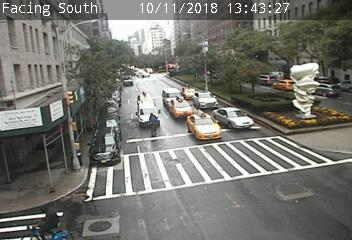car: (89, 127, 121, 165), (187, 113, 221, 142), (213, 107, 254, 130), (138, 101, 160, 128), (169, 98, 193, 118), (192, 91, 218, 109), (162, 88, 184, 108), (309, 83, 340, 97), (253, 74, 278, 86), (273, 79, 297, 91), (137, 93, 155, 109), (180, 87, 198, 100)
